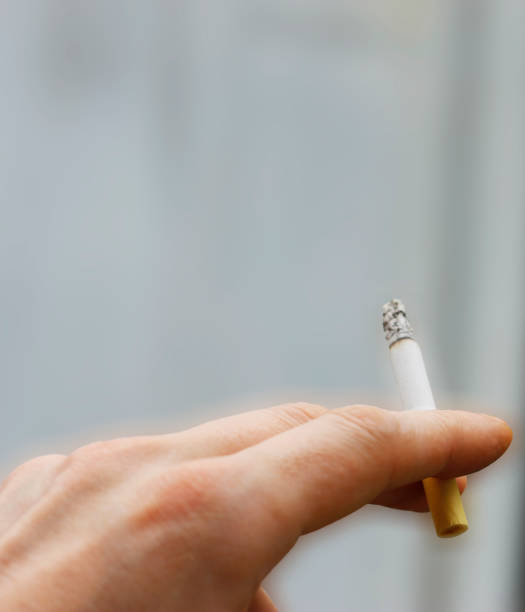cigarette: (381, 299, 469, 540)
